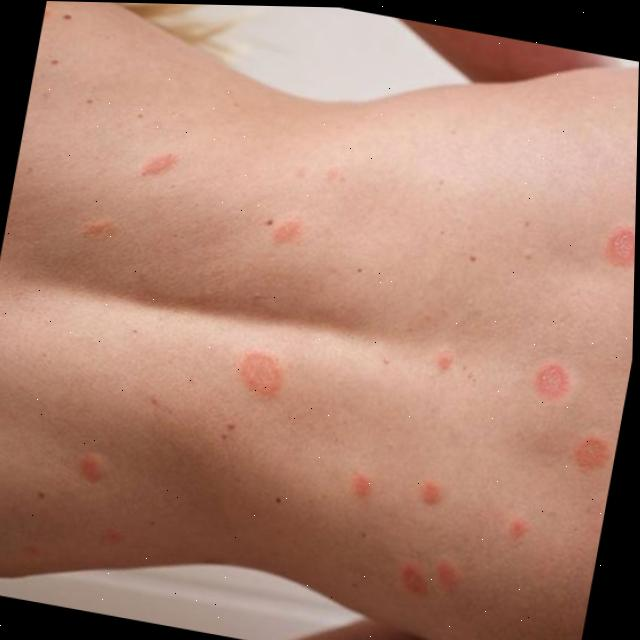Rosacea: (332, 158, 637, 624), (239, 336, 310, 395), (131, 148, 180, 190), (257, 212, 303, 249), (79, 449, 116, 485), (82, 223, 111, 242)
